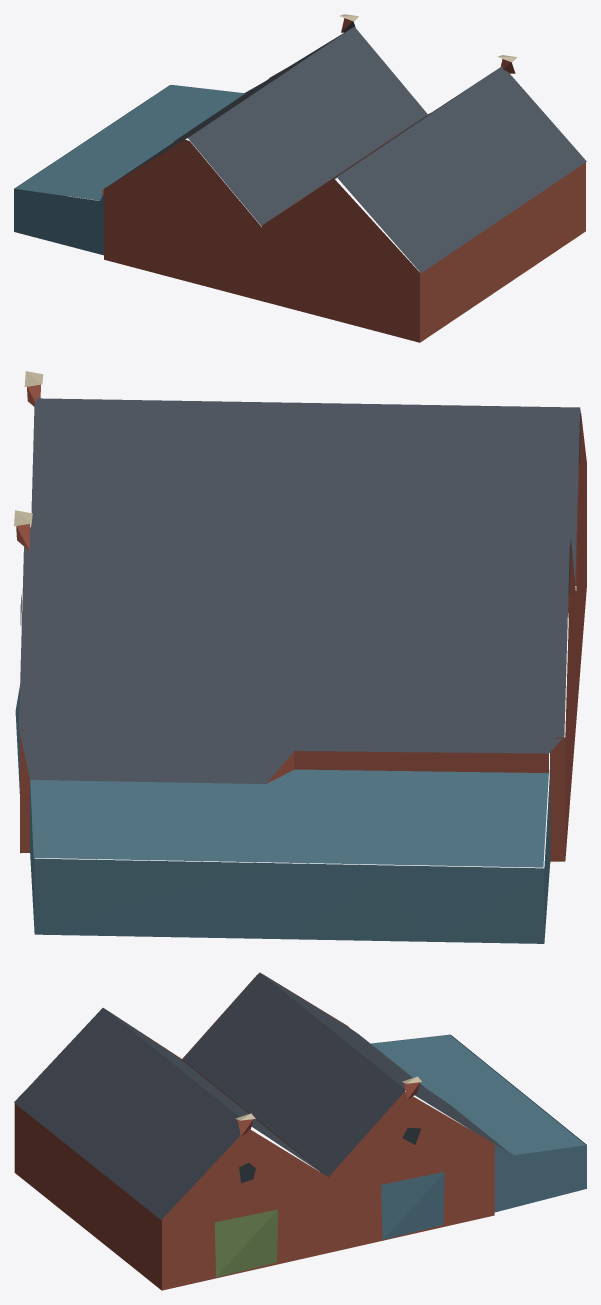
Rendered from kinderkookkafe.lod2.glb.
3 renders of one model, top to bottom at view 1: azimuth 30°, elevation 25°; view 2: azimuth 150°, elevation 25°; view 3: azimuth 270°, elevation 25°, orthographic. The views are drawn at different scales.
Parts seen in each view (by area): view 1: lod2; view 2: lod2; view 3: lod2.
Part boxes in pixels (x1,y1,x2,y2): lod2: (14,14,586,342); lod2: (14,371,586,943); lod2: (14,972,586,1290).
Bounding box in the file's own units: 23.17 × 7.88 × 26.36.
